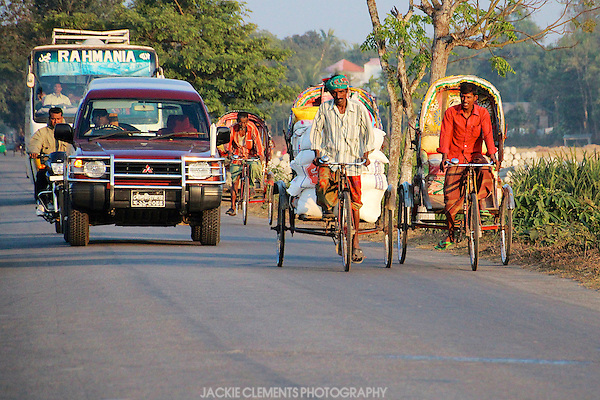Rickshaw: (408, 64, 528, 273), (275, 73, 394, 270), (221, 103, 281, 216)
